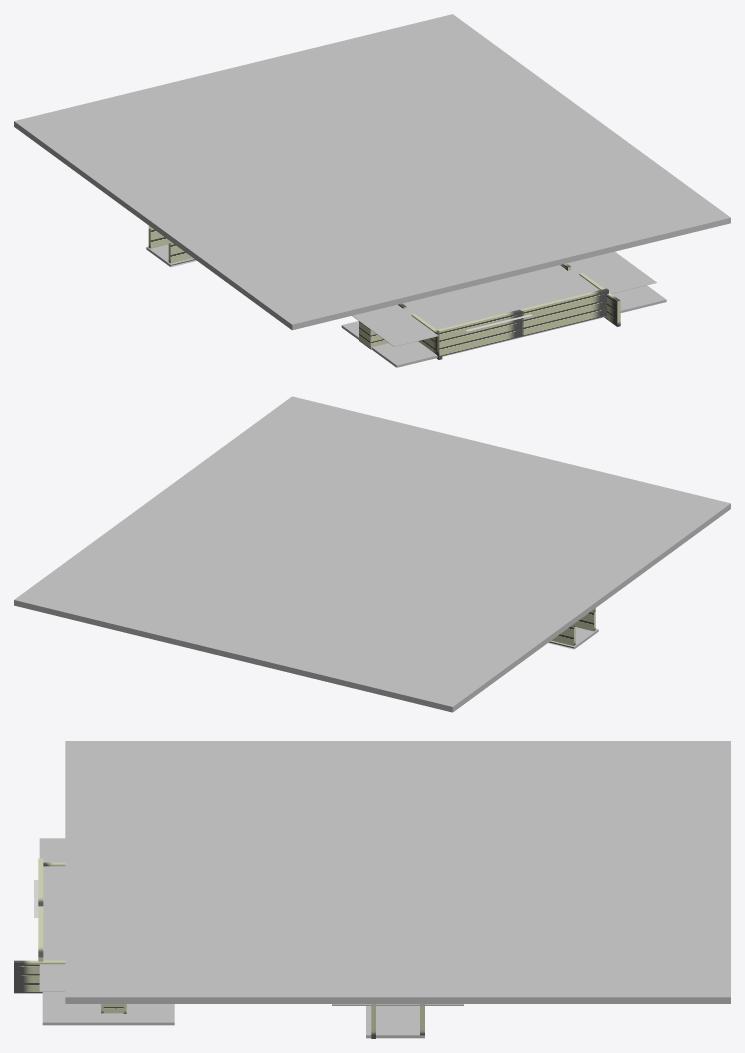
The model's file is metrostation base.fbx.
3 renders of one model, top to bottom at view 1: azimuth 30°, elevation 25°; view 2: azimuth 150°, elevation 25°; view 3: azimuth 270°, elevation 25°, orthographic. The views are drawn at different scales.
Parts seen in each view (by area): view 1: Cube.044, Plane.002, Cube.131, Cube.130, Cube.118, Cube.119; view 2: Cube.044; view 3: Cube.044, Plane.002, Cube.119, Cube.076, Cube.140.
Boxes of the visible parts, box(x1,y1,x2,y2) form: Cube.044: box(14, 14, 730, 330); Plane.002: box(352, 251, 656, 346); Cube.131: box(520, 288, 608, 335); Cube.130: box(437, 309, 523, 356); Cube.118: box(341, 321, 503, 367); Cube.119: box(502, 285, 666, 341); Cube.044: box(14, 396, 730, 712); Cube.044: box(65, 741, 730, 1003); Plane.002: box(39, 838, 65, 991); Cube.119: box(42, 992, 174, 1025); Cube.076: box(366, 1006, 424, 1038); Cube.140: box(14, 960, 65, 993).
Size of the model in its own units: 12357 by 1791 by 14610.
